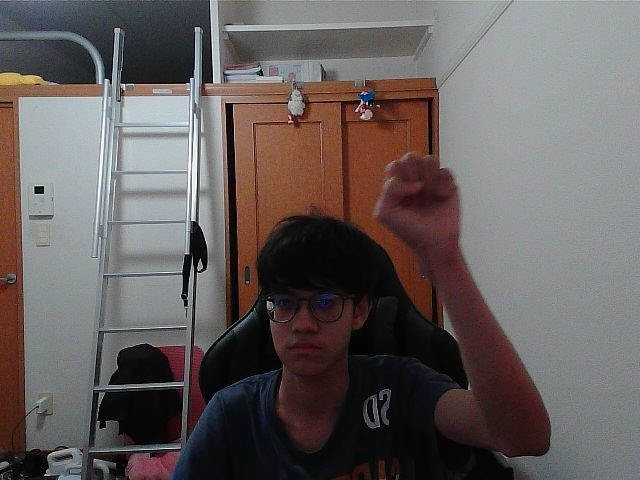closed_palm: (388, 158, 448, 242)
